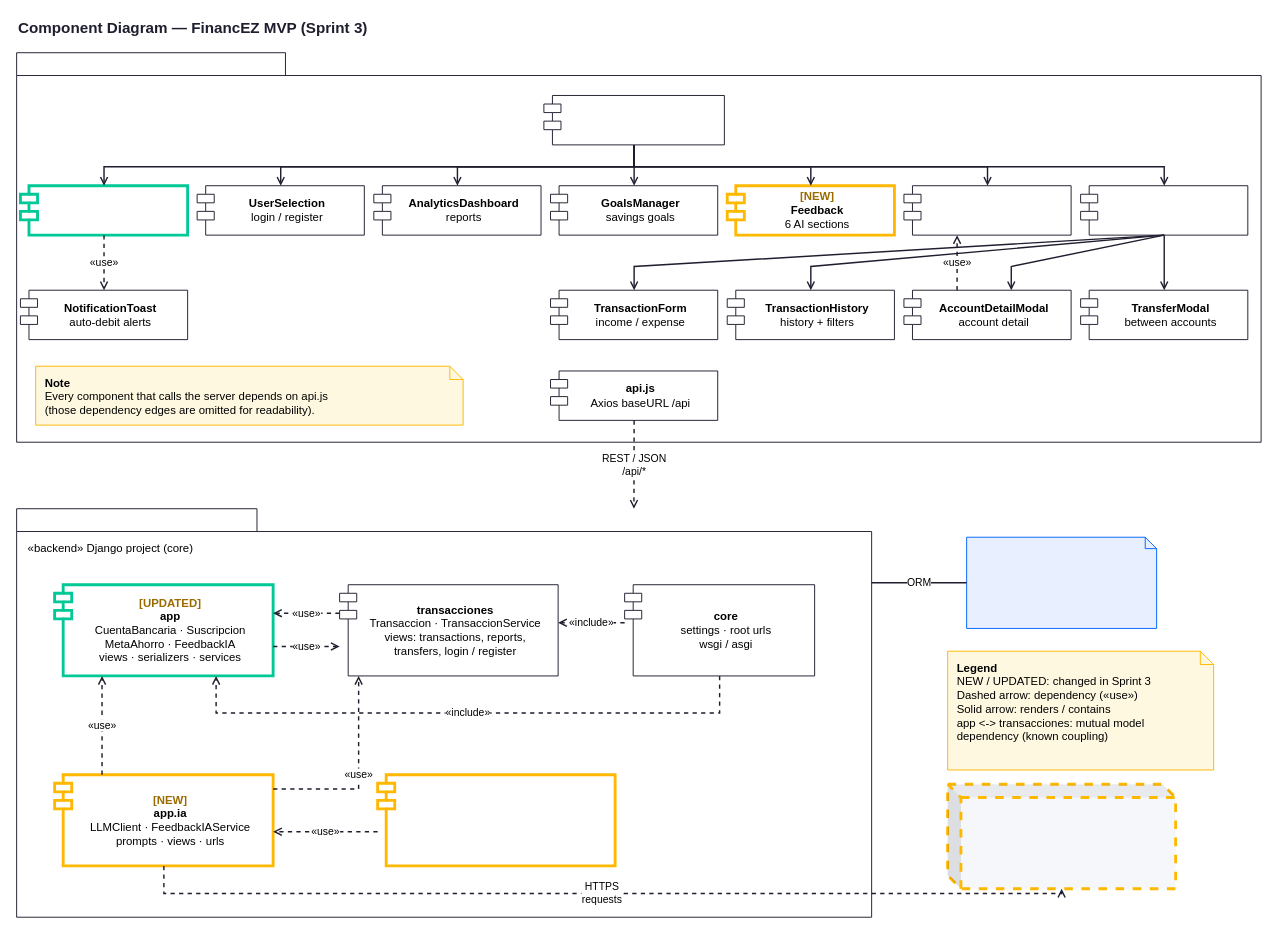
The diagram is 1278 pixels wide and 934 high, and some of its shapes have lost their labels. Each missing label, with the box of its shape:
[NEW] generar_feedback_semanal management command --usuario-id · --force: (376, 773, 616, 867)
[NEW] «external system» LLM provider Groq API / OpenAI API HTTPS · LLM_API_KEY: (946, 782, 1177, 890)
[UPDATED] Sidebar navigation · badge: (19, 184, 189, 236)
AccountsManager accounts · dashboard: (1080, 185, 1248, 235)
App.jsx Router · global state: (543, 95, 724, 145)
SubscriptionsManager subscriptions: (903, 185, 1071, 235)
«database» db.sqlite3 SQLite 3 · Django ORM: (966, 536, 1157, 628)
«frontend» React SPA (frontend/src): (16, 52, 1261, 442)
